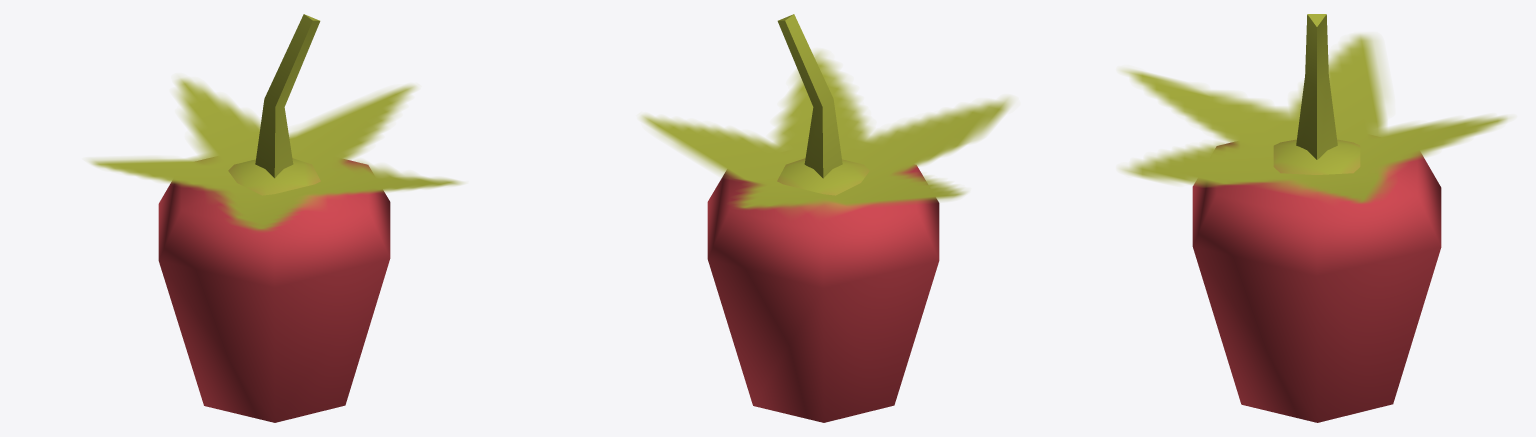
File: Raspberry.glb
The picture shows the model from 3 angles, left to right: view 1: azimuth 30°, elevation 25°; view 2: azimuth 150°, elevation 25°; view 3: azimuth 270°, elevation 25°; orthographic projection. The views are drawn at different scales.
Parts seen in each view (by area): view 1: Raspberry; view 2: Raspberry; view 3: Raspberry.
Part boxes in pixels (x1,y1,x2,y2): Raspberry: (89, 14, 462, 422); Raspberry: (640, 14, 1012, 422); Raspberry: (1120, 14, 1508, 422).
Size of the model in its own units: 0.1626 by 0.1798 by 0.1626.
1 material, 1 textured.
